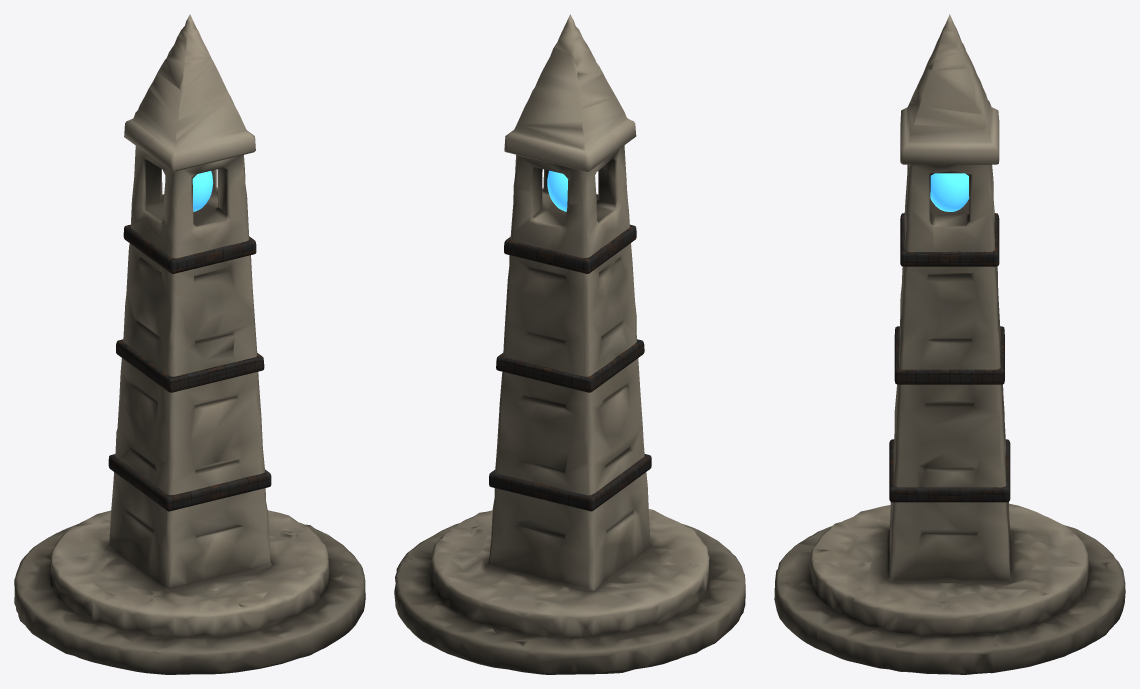
File: needle_inner.glb
3 views of the same model, side by side, from view 1: azimuth 30°, elevation 25°; view 2: azimuth 150°, elevation 25°; view 3: azimuth 270°, elevation 25° (orthographic).
Parts seen in each view (by area): view 1: needle_inner_stone, needle_inner_ironstone, needle_inner_accent; view 2: needle_inner_stone, needle_inner_ironstone, needle_inner_accent; view 3: needle_inner_stone, needle_inner_ironstone, needle_inner_accent.
Boxes of the visible parts, x1,y1,x2,y2 form: needle_inner_stone: (14, 14, 365, 674); needle_inner_ironstone: (108, 224, 271, 511); needle_inner_accent: (192, 171, 213, 211); needle_inner_stone: (394, 14, 745, 674); needle_inner_ironstone: (489, 224, 651, 511); needle_inner_accent: (547, 170, 568, 211); needle_inner_stone: (774, 14, 1125, 674); needle_inner_ironstone: (889, 213, 1010, 502); needle_inner_accent: (930, 173, 969, 211).
Bounding box in the file's own units: 4.06 × 7.5 × 4.05.
Materials: 3 (2 with a texture image).
